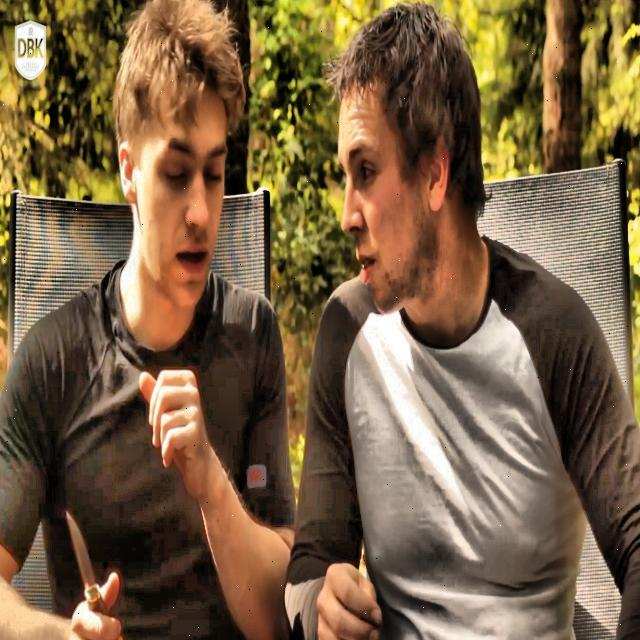knife: (65, 511, 109, 622)
